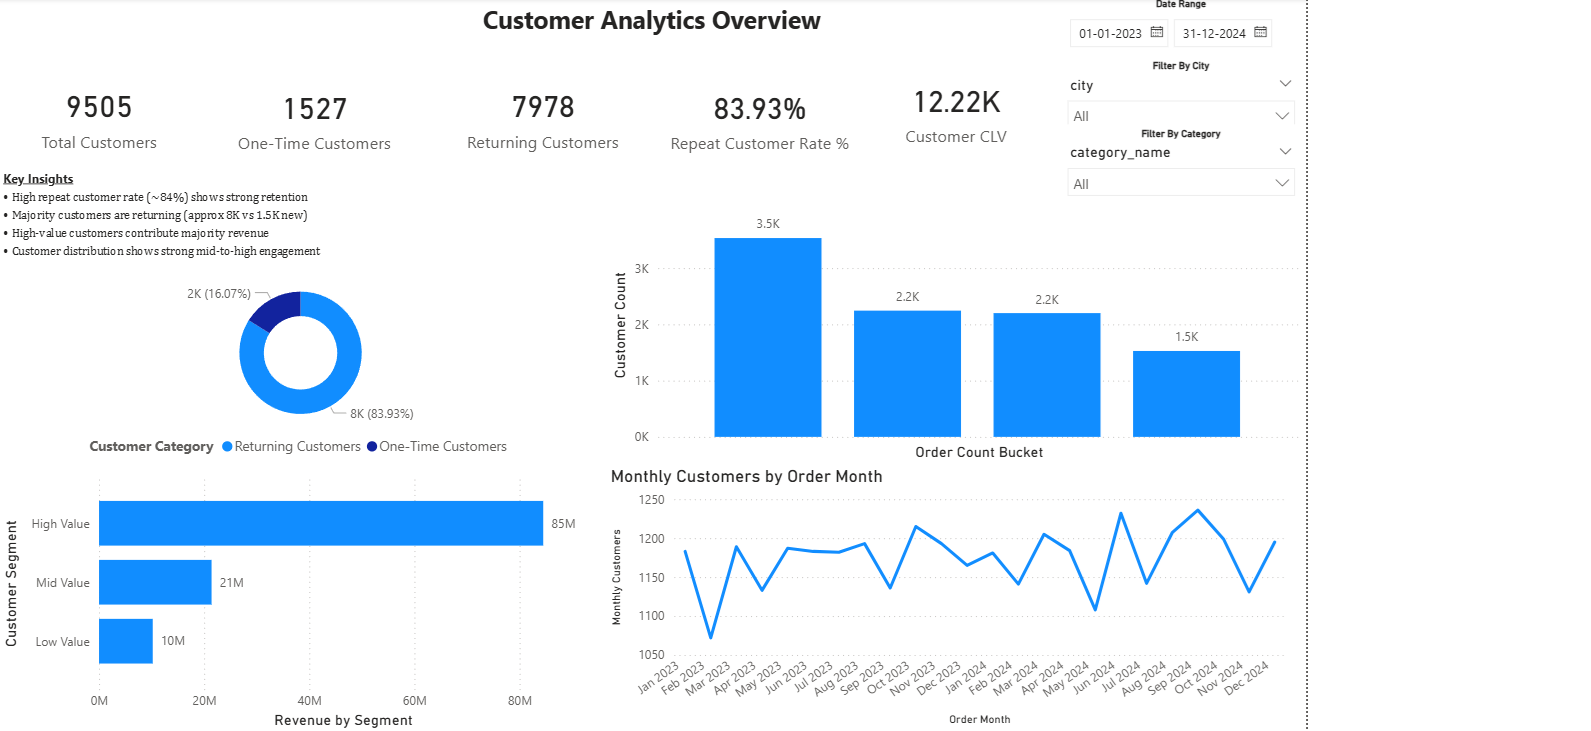

The page's visual inventory and layout, read from the dashboard file:
{"tool":"powerbi","page":{"name":"Customer Analytics Overview","canvas":[1280,720],"ordinal":1},"visuals":[{"type":"textbox","box":[315.7,0,650,42.9],"z":0},{"type":"card","fields":{"Values":["ecommerce customers.Total Customers"]},"box":[0,63.1,200.3,104.3],"z":1000},{"type":"card","fields":{"Values":["ecommerce orders.New Customers"]},"box":[192.1,64.5,237.4,104.3],"z":2000},{"type":"card","fields":{"Values":["ecommerce orders.Returning Customers"]},"box":[429.5,63.1,209.9,104.3],"z":3000},{"type":"card","fields":{"Values":["ecommerce orders.Repeat Customer Rate %"]},"box":[640.8,64.5,211.3,104.3],"z":4000},{"type":"card","fields":{"Values":["ecommerce orders.Customer CLV"]},"box":[838.9,58.7,199.3,102.7],"z":5000},{"type":"donutChart","fields":{"Category":["Customer Type.Customer Category"],"Y":["Customer Type.Customer Composition Value"]},"box":[0,266.6,594.3,190.8],"z":6000},{"type":"clusteredBarChart","fields":{"Category":["Customer Revenue.Customer Segment"],"Y":["Customer Revenue.Revenue by Segment"]},"box":[1.4,456.5,594.2,263.5],"z":7000},{"type":"lineChart","fields":{"Category":["ecommerce orders.Order Month"],"Y":["ecommerce orders.Monthly Customers"]},"box":[595.5,456.9,669.6,259.3],"z":8000},{"type":"clusteredColumnChart","fields":{"Category":["Orders Per Customer.Order Count Bucket"],"Y":["Orders Per Customer.Customer Count"]},"box":[596.7,196.9,683.6,260.5],"z":9000},{"type":"slicer","title":"Date Range","fields":{"Values":["ecommerce orders.order_date"]},"box":[1037.3,0,242.7,60.9],"z":10000},{"type":"slicer","title":"Filter By City","fields":{"Values":["ecommerce customers.city"]},"box":[1037.3,60.9,242.7,62.7],"z":11000},{"type":"slicer","title":"Filter By Category","fields":{"Values":["ecommerce categories.category_name"]},"box":[1037.3,127.3,242.7,69.1],"z":12000},{"type":"textbox","box":[1.2,161.4,583.3,105.2],"z":13000}]}

Visuals, with their boxes on the page's 1280x720 design canvas (x1, y1, x2, y2). These are canvas units, not pixel positions in the 1591x731 screenshot, which may show the page scaled, cropped or inside an application window:
textbox: select_region(316, 0, 966, 43)
card - ecommerce customers.Total Customers: select_region(0, 63, 200, 167)
card - ecommerce orders.New Customers: select_region(192, 64, 430, 169)
card - ecommerce orders.Returning Customers: select_region(430, 63, 639, 167)
card - ecommerce orders.Repeat Customer Rate %: select_region(641, 64, 852, 169)
card - ecommerce orders.Customer CLV: select_region(839, 59, 1038, 161)
donutChart - Customer Type.Customer Category x Customer Type.Customer Composition Value: select_region(0, 267, 594, 457)
clusteredBarChart - Customer Revenue.Customer Segment x Customer Revenue.Revenue by Segment: select_region(1, 456, 596, 720)
lineChart - ecommerce orders.Order Month x ecommerce orders.Monthly Customers: select_region(596, 457, 1265, 716)
clusteredColumnChart - Orders Per Customer.Order Count Bucket x Orders Per Customer.Customer Count: select_region(597, 197, 1280, 457)
"Date Range" slicer: select_region(1037, 0, 1280, 61)
"Filter By City" slicer: select_region(1037, 61, 1280, 124)
"Filter By Category" slicer: select_region(1037, 127, 1280, 196)
textbox: select_region(1, 161, 584, 267)
